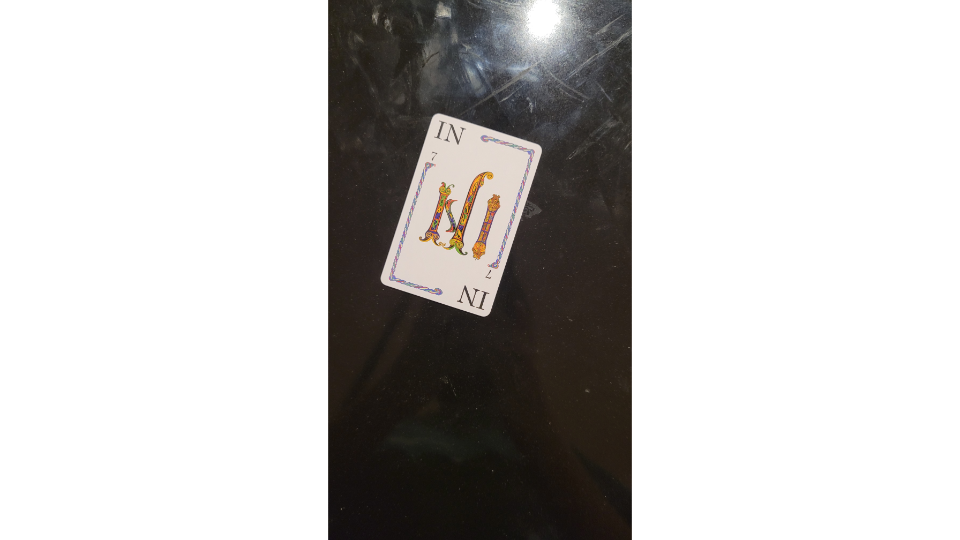IN: (377, 109, 545, 320)
